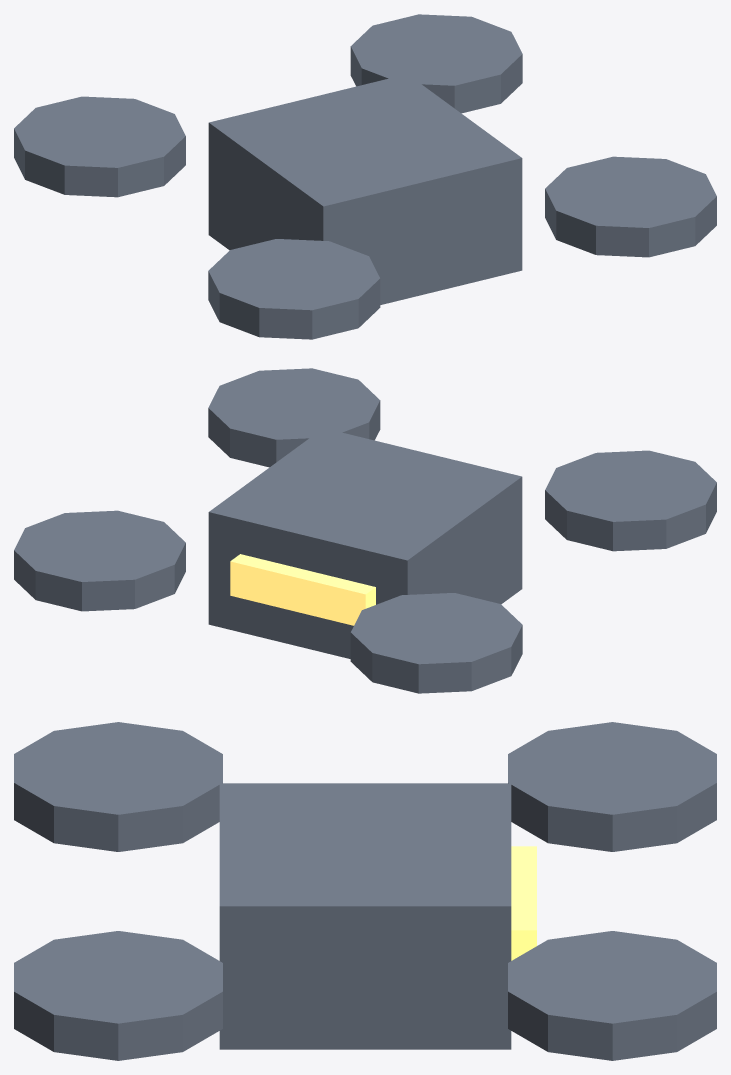
Rendered from drone.glb.
The picture shows the model from 3 angles, top to bottom: view 1: azimuth 30°, elevation 25°; view 2: azimuth 150°, elevation 25°; view 3: azimuth 270°, elevation 25°; orthographic projection. The views are drawn at different scales.
Size of the model in its own units: 2.08 by 0.46 by 2.05.
